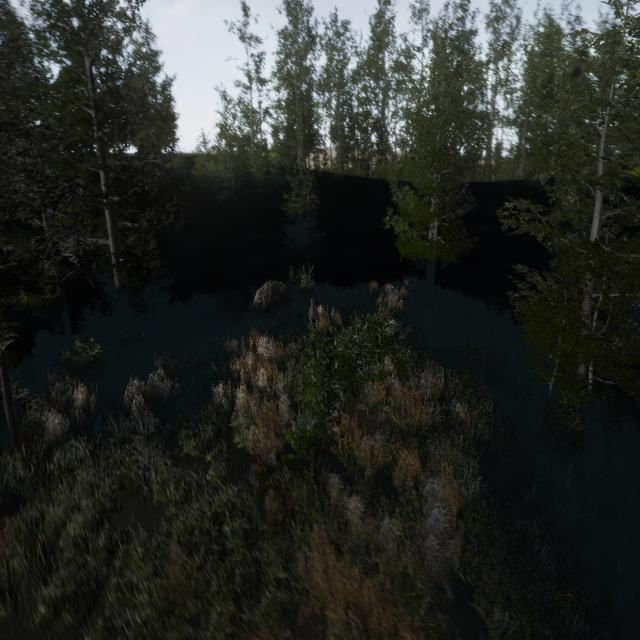Human: (304, 291, 317, 345)
